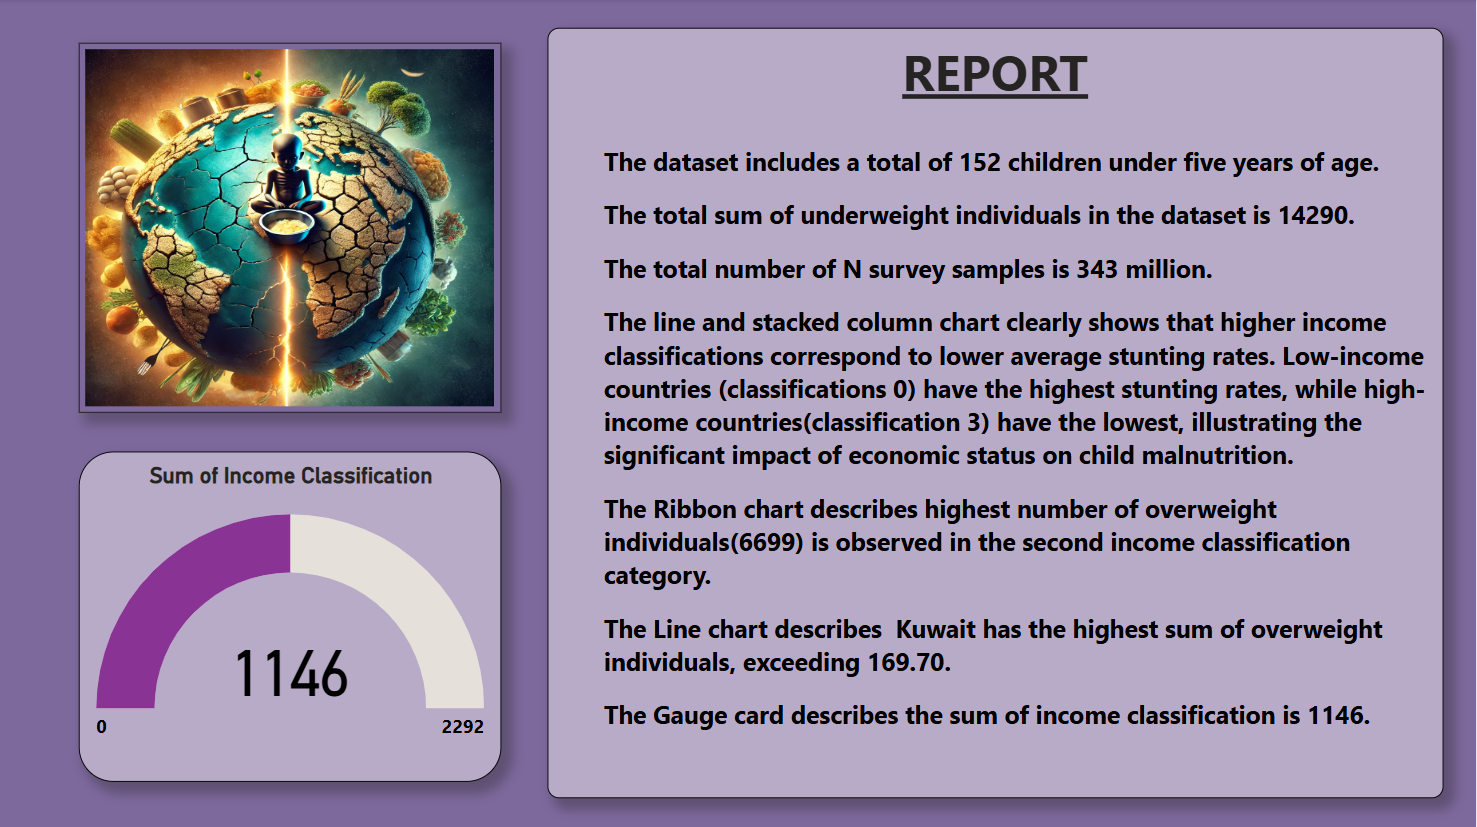

The dashboard page shown, as its layout file describes it:
{"tool":"powerbi","page":{"name":"Page 2","canvas":[1280,720],"ordinal":1},"visuals":[{"type":"gauge","fields":{"Y":["malnutrition-estimates.Income Classification"]},"box":[68.6,392.5,366.4,286.8],"z":0},{"type":"textbox","box":[474.8,24.7,776.7,668.3],"z":1000},{"type":"image","box":[68.6,38.4,366.4,321.1],"z":2000}]}

Visuals, with their boxes in screenshot pixels (x1, y1, x2, y2), scaled from the page's 1280x720 canvas onto the 1477x827 screenshot:
gauge - malnutrition-estimates.Income Classification: bbox=[79, 451, 502, 780]
textbox: bbox=[548, 28, 1444, 796]
image: bbox=[79, 44, 502, 413]
